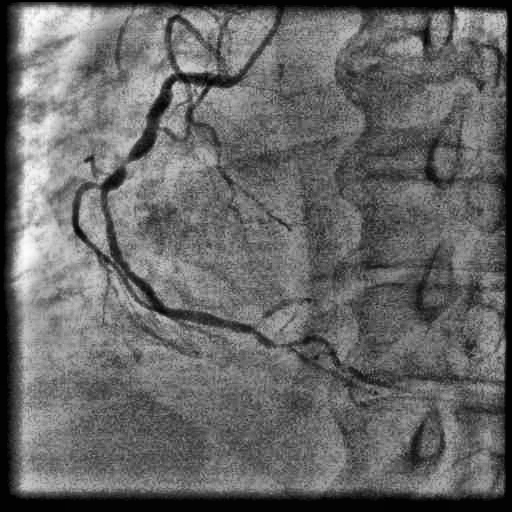pborca: (291, 336, 469, 383)
pda: (290, 348, 351, 385)
rca: (101, 72, 292, 348)
